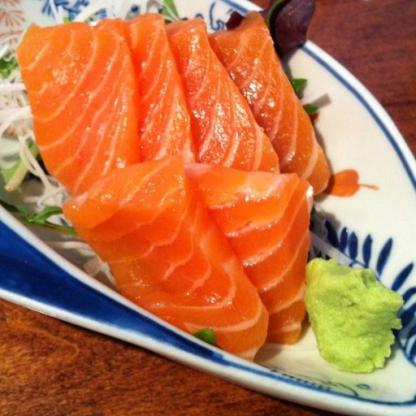salmon: (75, 153, 271, 352), (184, 155, 308, 338), (21, 23, 146, 188), (217, 19, 331, 195), (168, 20, 280, 187), (105, 14, 194, 168)
